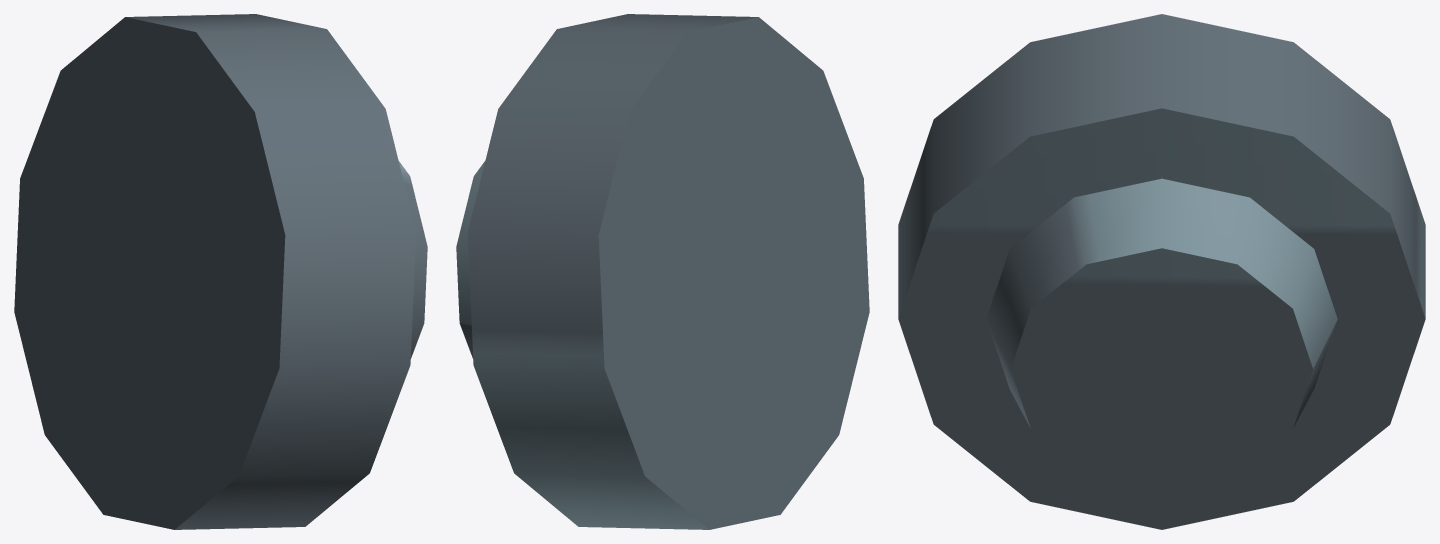
The model's file is wheel_basic_back_r.fbx.
3 views of the same model, side by side, from view 1: azimuth 30°, elevation 25°; view 2: azimuth 150°, elevation 25°; view 3: azimuth 270°, elevation 25° (orthographic).
Parts seen in each view (by area): view 1: wheel_basic_back_r; view 2: wheel_basic_back_r; view 3: wheel_basic_back_r.
Part boxes in pixels (<box>): wheel_basic_back_r: <box>14,14,427,529</box>; wheel_basic_back_r: <box>456,14,869,529</box>; wheel_basic_back_r: <box>898,14,1425,529</box>.
Bounding box in the file's own units: 2.7 × 4.62 × 4.44.
